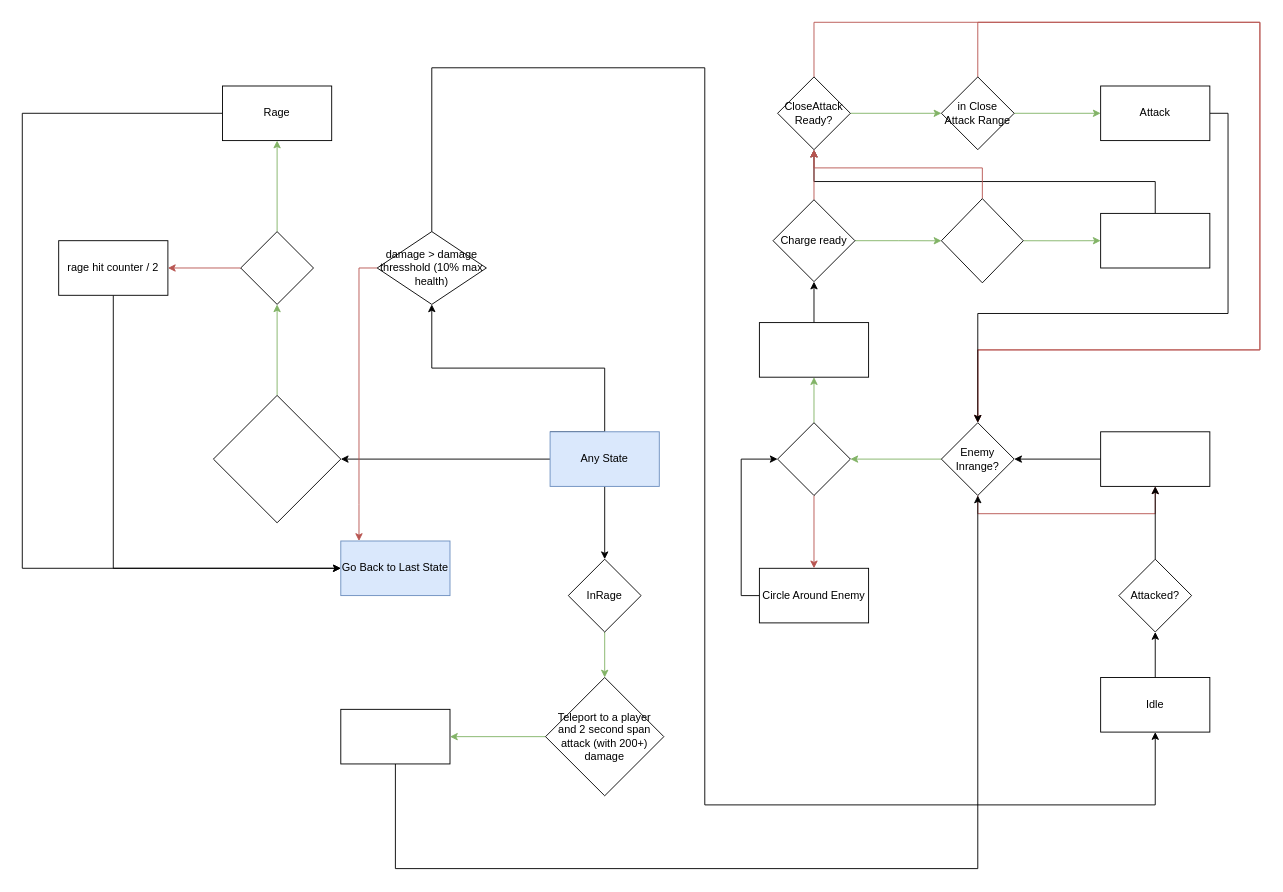
This 1283x892 diagram has some shape labels left out. The centre of each missing label's shape, as x and y in pixels:
Any attack ready?: point (813, 458)
Break Rage And Stun: point (395, 736)
Charge: point (1155, 240)
Enemy Dealt 150 damage since last rage: point (276, 458)
Enemy within charge range?: point (981, 240)
In rage: point (276, 267)
Move to enemy: point (813, 349)
Random Walk: point (1155, 458)
